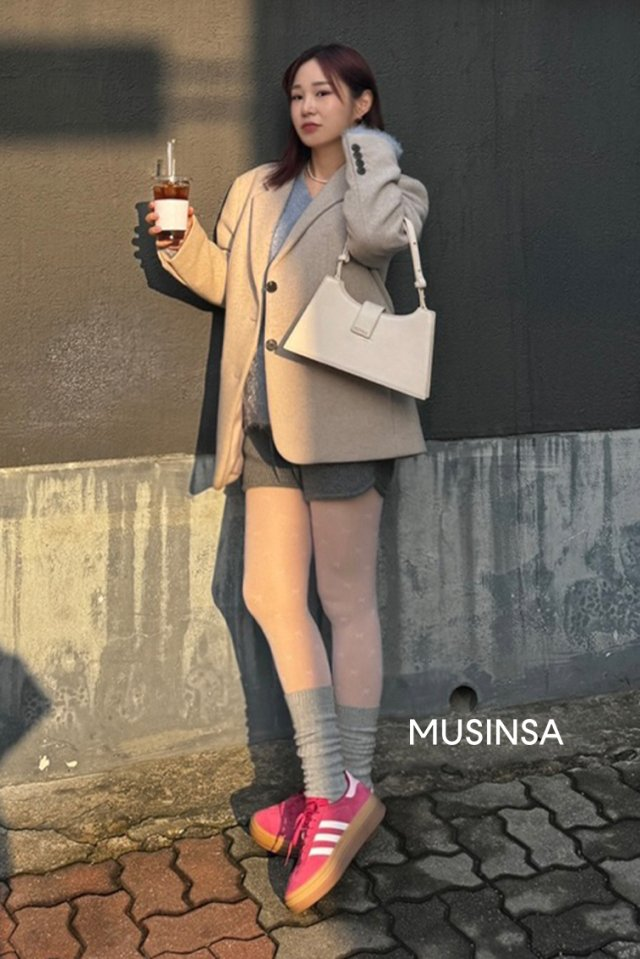Accessories: (301, 160, 332, 187)
Handbag: (276, 272, 454, 409)
Outer: (218, 161, 435, 466)
Shoes: (251, 775, 398, 916)
Shorts: (236, 430, 401, 509)
